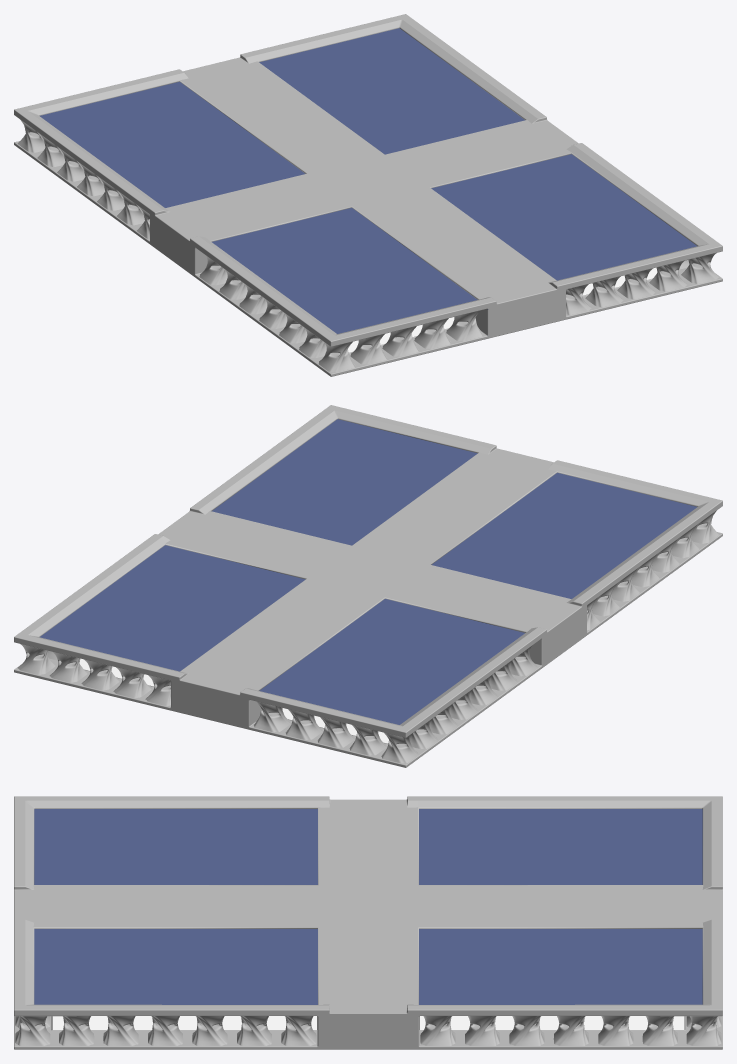
Rendered from Platform_rectangle.glb.
3 views of the same model, one above another, from view 1: azimuth 30°, elevation 25°; view 2: azimuth 150°, elevation 25°; view 3: azimuth 270°, elevation 25° (orthographic). The views are drawn at different scales.
Parts seen in each view (by area): view 1: Platform_Rectangle; view 2: Platform_Rectangle; view 3: Platform_Rectangle.
Part boxes in pixels (x1,y1,x2,y2): Platform_Rectangle: (14, 14, 722, 376); Platform_Rectangle: (14, 405, 722, 767); Platform_Rectangle: (14, 796, 722, 1049).
Size of what is drawn, in the model's own units: 25 by 2.18 by 35.
